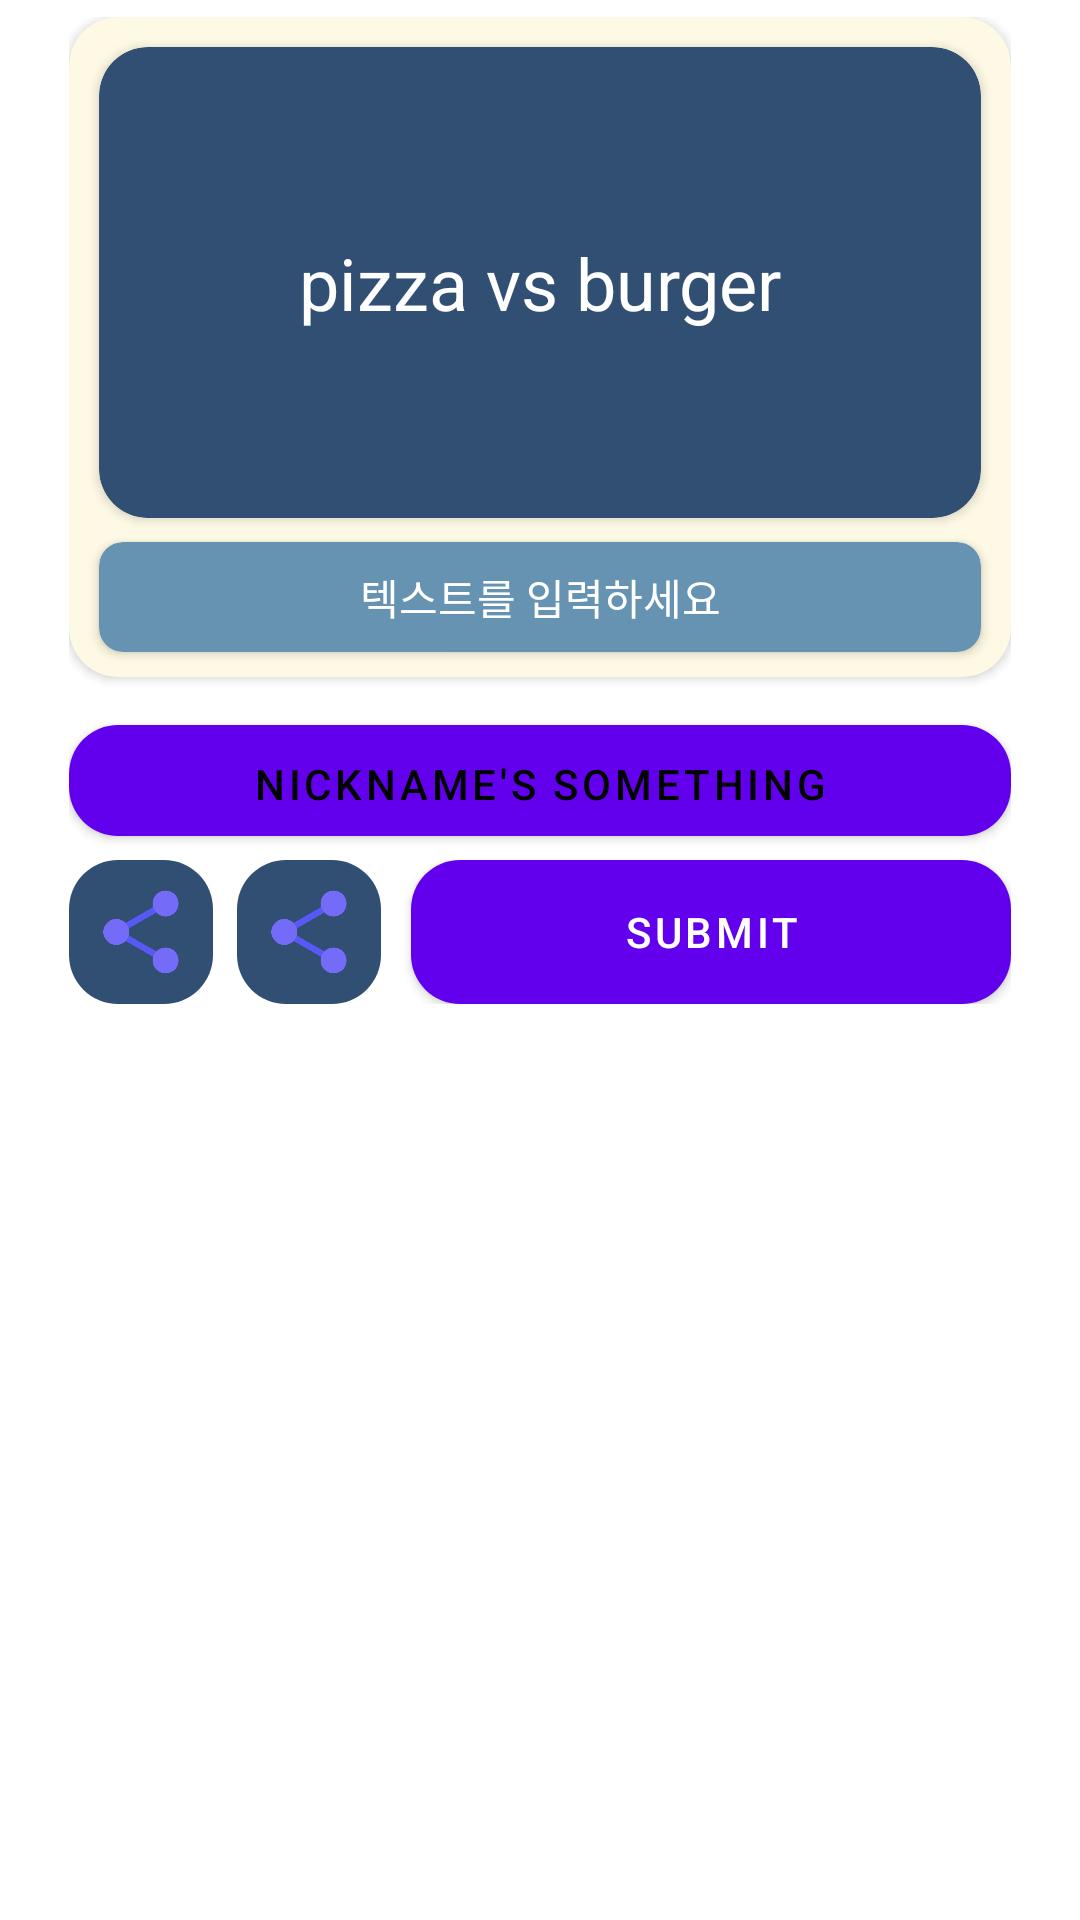

Screen size 1080×1920. Icon name, then its box in pixels as (x1, y1, x2, y2):
share: (69, 860, 213, 1004), (237, 860, 381, 1004)
